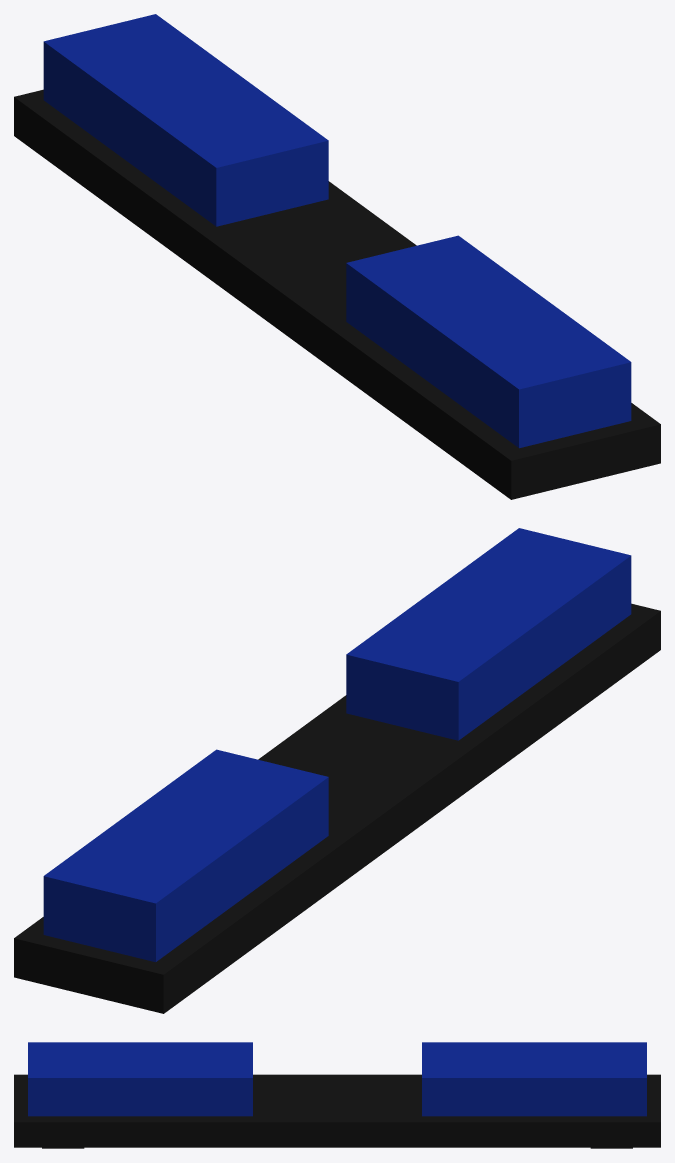
File: light_bar_blue.glb
3 views of the same model, one above another, from view 1: azimuth 30°, elevation 25°; view 2: azimuth 150°, elevation 25°; view 3: azimuth 270°, elevation 25° (orthographic). The views are drawn at different scales.
Parts seen in each view (by area): view 1: body:compound; view 2: body:compound; view 3: body:compound.
Boxes of the visible parts, x1,y1,x2,y2 form: body:compound: (14, 14, 660, 499); body:compound: (14, 528, 660, 1013); body:compound: (14, 1042, 660, 1148).
Size of the model in its own units: 0.25 by 0.1875 by 1.44.
